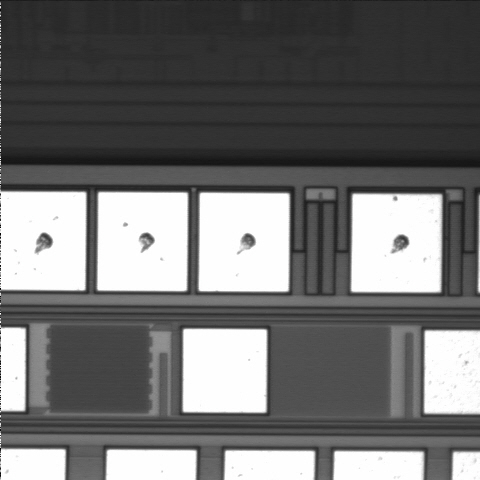pad: (97, 192, 188, 291), (199, 193, 289, 291), (351, 194, 441, 292), (183, 329, 267, 412)
